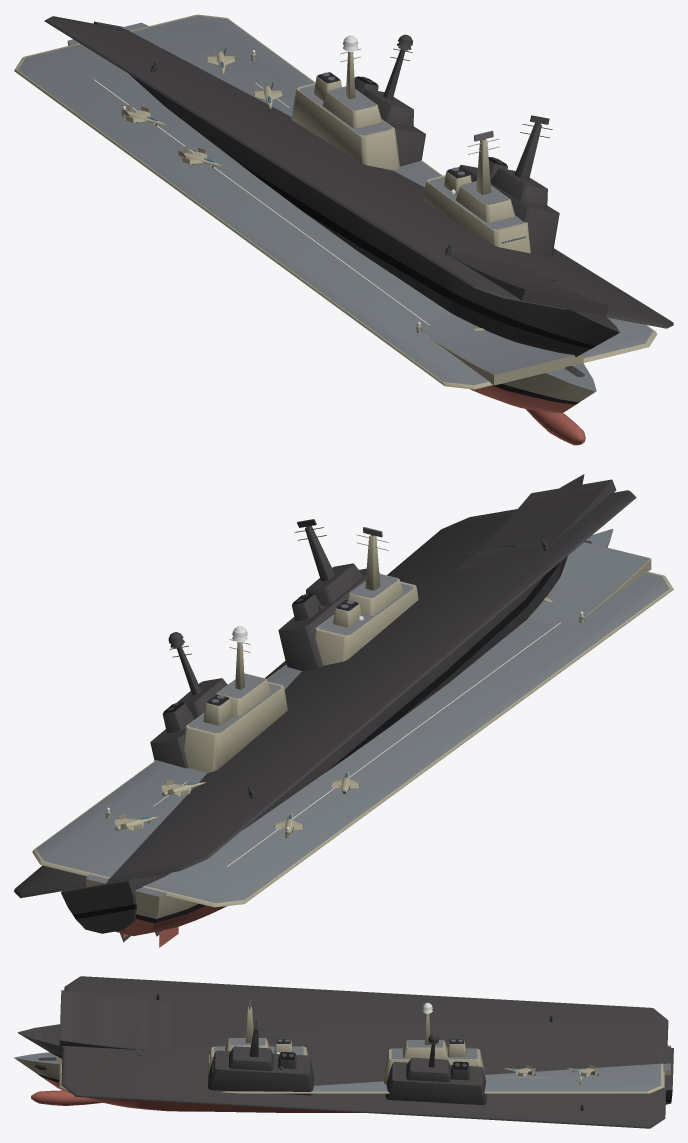
File: carrier__queen_elizabeth_class.glb
The picture shows the model from 3 angles, top to bottom: view 1: azimuth 30°, elevation 25°; view 2: azimuth 150°, elevation 25°; view 3: azimuth 270°, elevation 25°; orthographic projection. The views are drawn at different scales.
Parts seen in each view (by area): view 1: Hull_Mesh, Wreck; view 2: Wreck, Hull_Mesh; view 3: Wreck, Hull_Mesh.
Part boxes in pixels (x1=…): Hull_Mesh: x1=14, y1=14, x2=657, y2=445; Wreck: x1=44, y1=16, x2=673, y2=376; Wreck: x1=14, y1=474, x2=636, y2=942; Hull_Mesh: x1=32, y1=529, x2=673, y2=947; Wreck: x1=17, y1=976, x2=673, y2=1128; Hull_Mesh: x1=14, y1=1002, x2=670, y2=1112.
Size of what is drawn, in the model's own units: 83.69 by 61.4 by 293.
